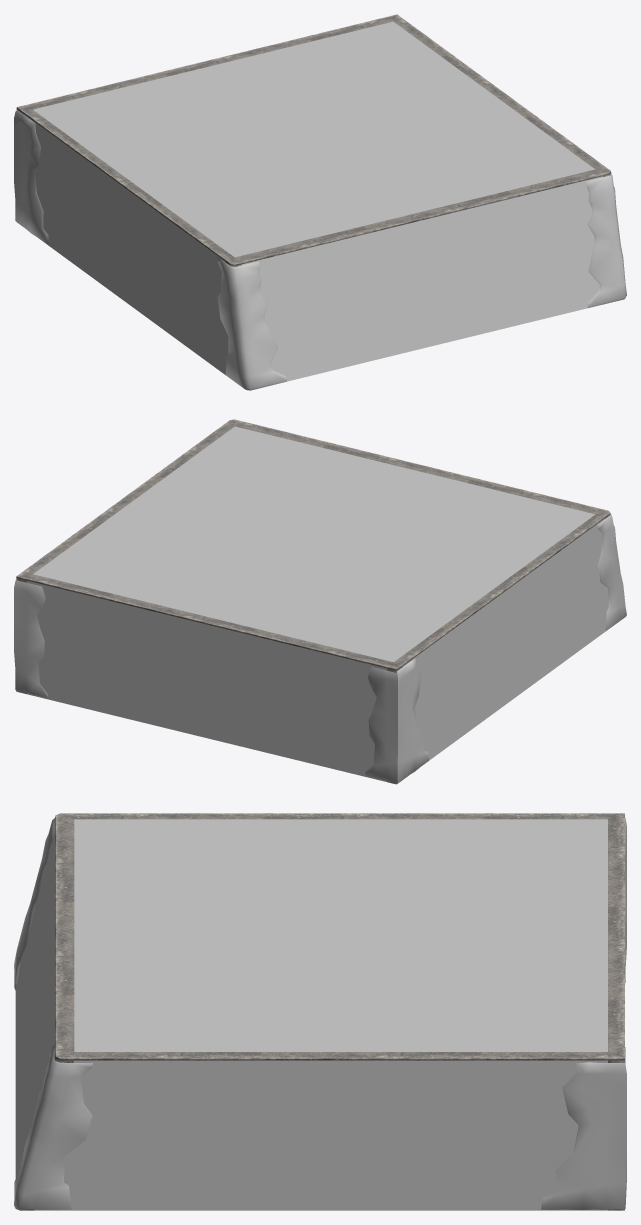
The model's file is JpHouseJ_StoneWall_03b.fbx.
The picture shows the model from 3 angles, top to bottom: view 1: azimuth 30°, elevation 25°; view 2: azimuth 150°, elevation 25°; view 3: azimuth 270°, elevation 25°; orthographic projection. The views are drawn at different scales.
Parts seen in each view (by area): view 1: JpHouseJ_StoneWall_03b; view 2: JpHouseJ_StoneWall_03b; view 3: JpHouseJ_StoneWall_03b.
Part boxes in pixels (x1,y1,x2,y2): JpHouseJ_StoneWall_03b: (14,14,626,390); JpHouseJ_StoneWall_03b: (14,419,626,784); JpHouseJ_StoneWall_03b: (14,813,626,1210).
Size of the model in its own units: 13.44 by 3.85 by 14.06.
